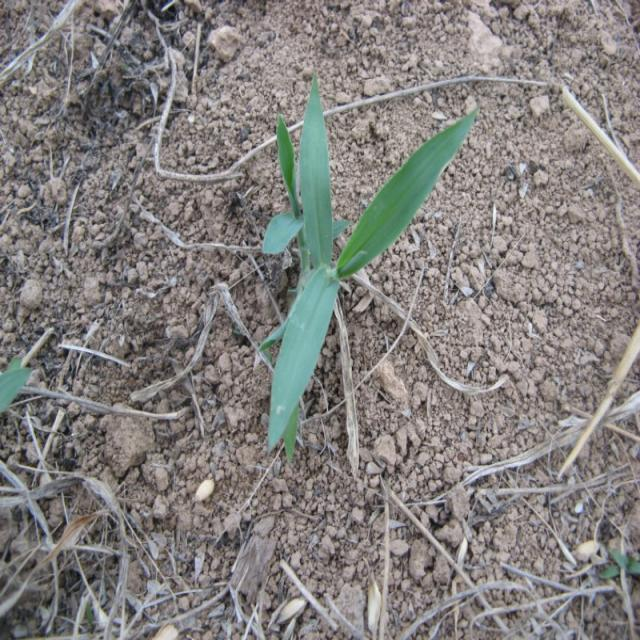bg: (260, 64, 478, 468)
